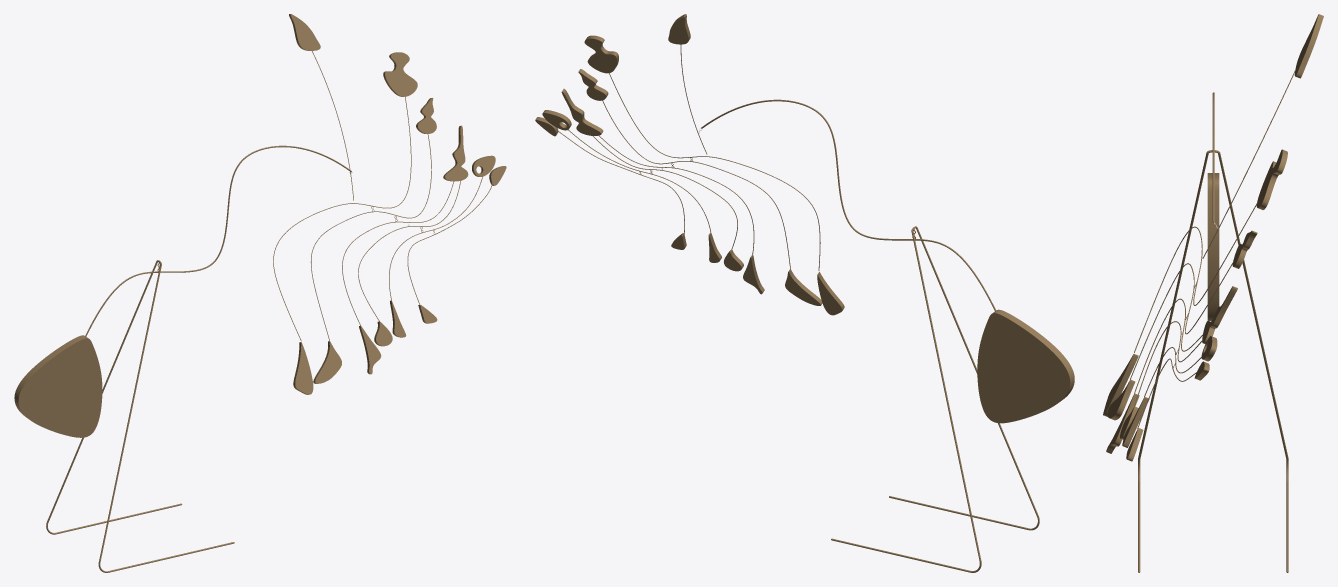
File: preview.glb
3 renders of one model, left to right at view 1: azimuth 30°, elevation 25°; view 2: azimuth 150°, elevation 25°; view 3: azimuth 270°, elevation 25°, orthographic. The views are drawn at different scales.
Visible parts, largest first — view 1: Default_gradientSculpture #1 #2_0; view 2: Default_gradientSculpture #1 #2_0; view 3: Default_gradientSculpture #1 #2_0.
Part boxes in pixels (left/top/right/bottom): Default_gradientSculpture #1 #2_0: left=14, top=14, right=506, bottom=572; Default_gradientSculpture #1 #2_0: left=535, top=14, right=1074, bottom=572; Default_gradientSculpture #1 #2_0: left=1103, top=14, right=1323, bottom=572.
Size of the model in its own units: 52.32 by 46.61 by 14.53.
